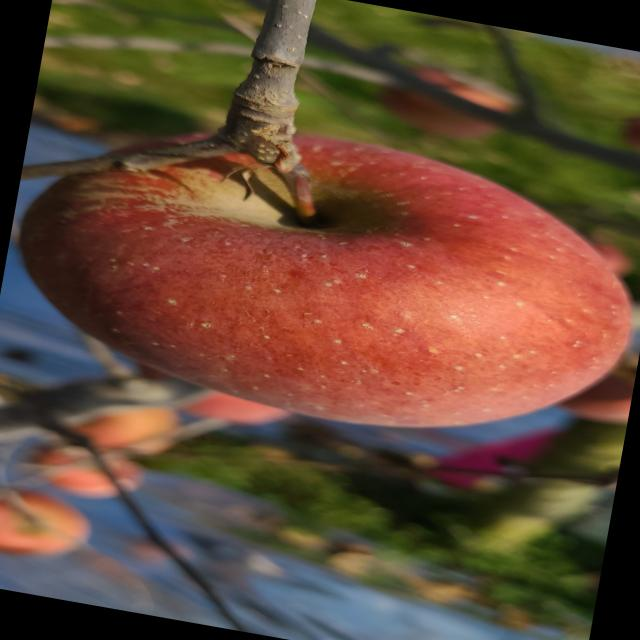fresh: (3, 81, 640, 479)
